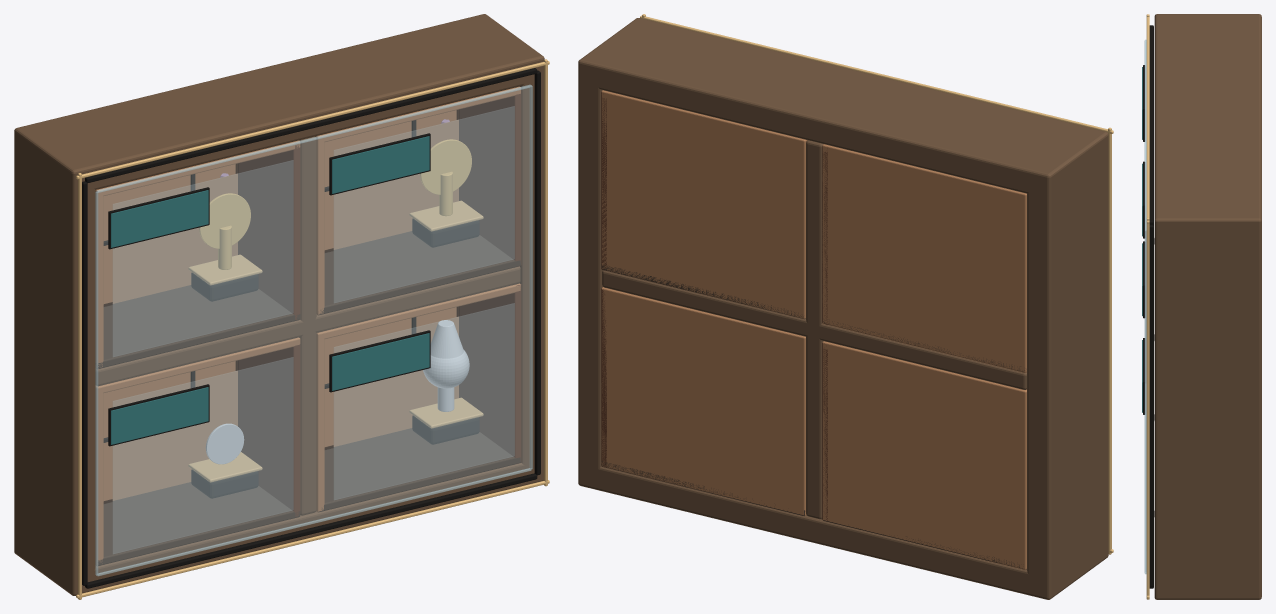
Rendered from wooden-gallery-cabinet-v3.glb.
3 views of the same model, side by side, from view 1: azimuth 30°, elevation 25°; view 2: azimuth 150°, elevation 25°; view 3: azimuth 270°, elevation 25° (orthographic). The views are drawn at different scales.
Parts seen in each view (by area): view 1: front-glass-outer-pane, outer-frame-top, outer-frame-left, slot-2.front-glass-pane, slot-0.front-glass-pane, slot-3.front-glass-pane, slot-1.front-glass-pane, outer-frame-bottom, slot-0.floor-panel, slot-2.floor-panel, slot-1.floor-panel, slot-3.floor-panel (+48 smaller); view 2: outer-frame-top, slot-2.back-panel, slot-0.back-panel, slot-1.back-panel, outer-frame-left, slot-3.back-panel, outer-frame-bottom, outer-frame-right, divider-horizontal-core, divider-vertical-core, brass-outer-top, brass-outer-left (+13 smaller); view 3: outer-frame-right, outer-frame-top, outer-frame-bottom, lacquer-outer-right-rib, brass-outer-right, front-glass-outer-right-edge, lacquer-outer-top-rib, outer-frame-left, brass-outer-top, front-glass-outer-top-edge, front-glass-outer-left-edge, front-glass-outer-bottom-edge.
Boxes of the visible parts, box(x1,y1,x2,y2) form: front-glass-outer-pane: box(97, 86, 530, 573); outer-frame-top: box(14, 14, 543, 193); outer-frame-left: box(14, 123, 95, 595); slot-2.front-glass-pane: box(113, 357, 293, 553); slot-0.front-glass-pane: box(113, 160, 293, 356); slot-3.front-glass-pane: box(334, 303, 514, 499); slot-1.front-glass-pane: box(334, 106, 514, 302); outer-frame-bottom: box(14, 461, 543, 595); slot-0.floor-panel: box(97, 285, 300, 368); slot-2.floor-panel: box(98, 482, 300, 565); slot-1.floor-panel: box(317, 231, 520, 315); slot-3.floor-panel: box(318, 428, 520, 512); outer-frame-top: box(579, 18, 1108, 196); slot-2.back-panel: box(823, 342, 1026, 569); slot-0.back-panel: box(822, 145, 1026, 372); slot-1.back-panel: box(602, 92, 807, 318); outer-frame-left: box(1027, 127, 1108, 599); slot-3.back-panel: box(601, 287, 804, 514); outer-frame-bottom: box(578, 464, 1108, 599); outer-frame-right: box(578, 18, 656, 488); divider-horizontal-core: box(602, 270, 1026, 389); divider-vertical-core: box(806, 140, 823, 519); brass-outer-top: box(640, 15, 1113, 133); brass-outer-left: box(1108, 127, 1111, 554); outer-frame-right: box(1154, 210, 1261, 599); outer-frame-top: box(1154, 14, 1261, 239); outer-frame-bottom: box(1154, 580, 1261, 598); lacquer-outer-right-rib: box(1149, 225, 1153, 586); brass-outer-right: box(1146, 217, 1149, 599); front-glass-outer-right-edge: box(1144, 230, 1146, 573); lacquer-outer-top-rib: box(1149, 25, 1153, 225); outer-frame-left: box(1156, 14, 1261, 24); brass-outer-top: box(1146, 17, 1149, 223); front-glass-outer-top-edge: box(1144, 39, 1146, 230); front-glass-outer-left-edge: box(1145, 40, 1146, 382); front-glass-outer-bottom-edge: box(1145, 384, 1146, 574).
Size of the model in its own units: 5.55 by 4.78 by 1.36.
